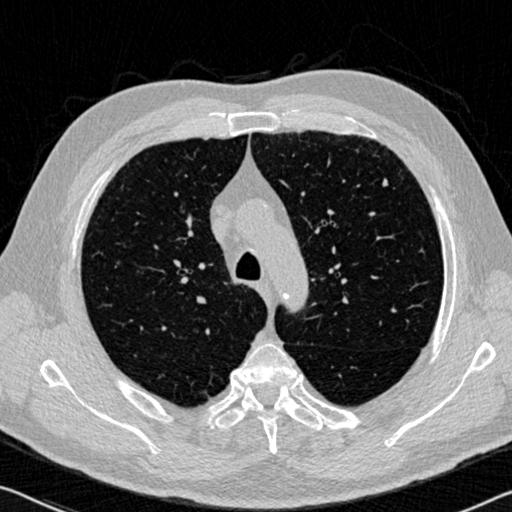nodule: (379, 177, 391, 189)
